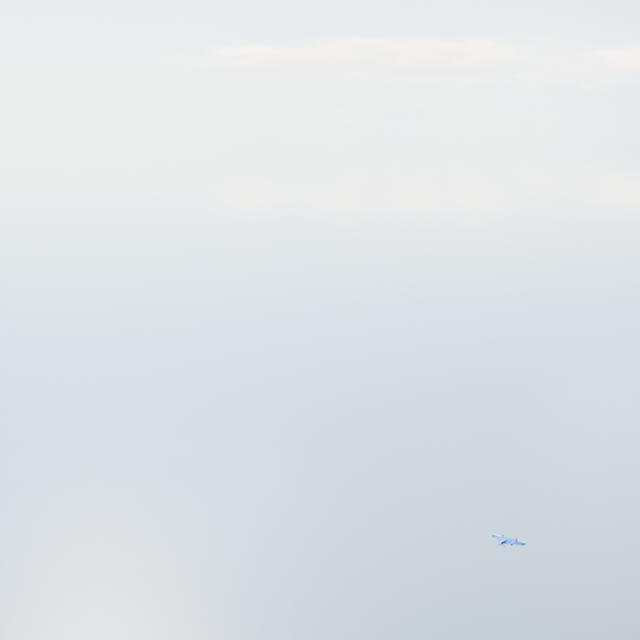Airaplan: (491, 534, 527, 547)
